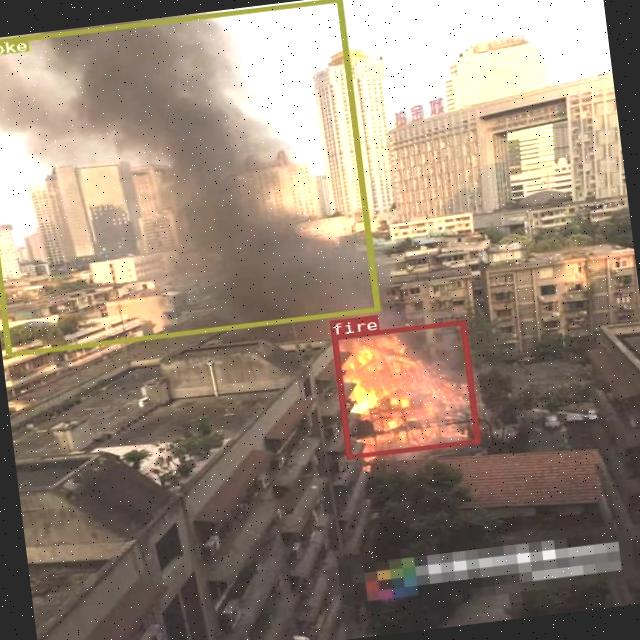fire: (330, 318, 479, 458)
smoke: (0, 0, 379, 355)
